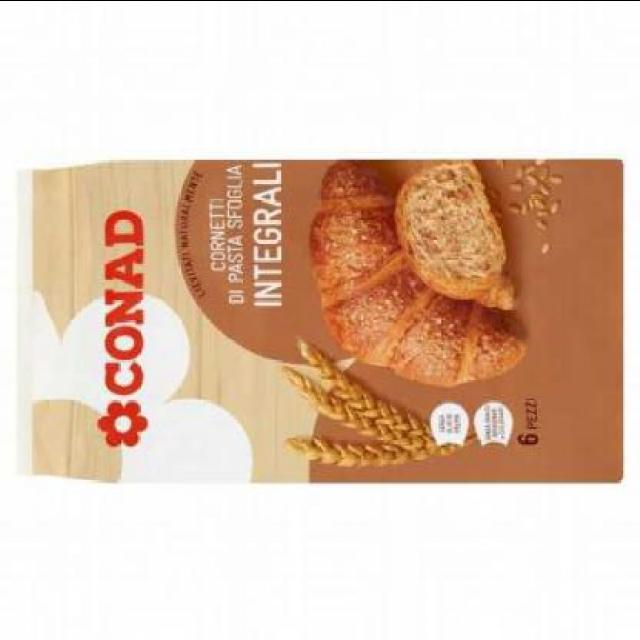Merendine: (27, 130, 633, 507)
